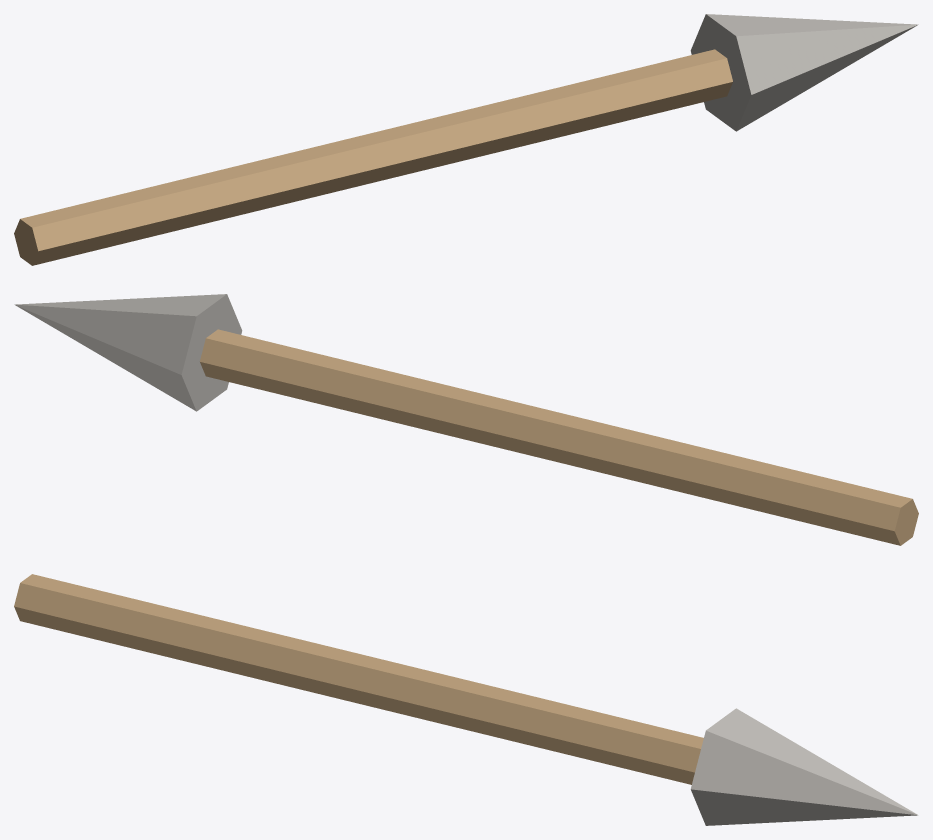
The model's file is item_015_spear_s.glb.
The picture shows the model from 3 angles, top to bottom: view 1: azimuth 30°, elevation 25°; view 2: azimuth 150°, elevation 25°; view 3: azimuth 330°, elevation 25°; orthographic projection.
Parts seen in each view (by area): view 1: item_015_spear_s; view 2: item_015_spear_s; view 3: item_015_spear_s.
Part boxes in pixels (x1,y1,x2,y2): item_015_spear_s: (14, 14, 918, 265); item_015_spear_s: (14, 294, 918, 545); item_015_spear_s: (14, 574, 918, 825).
Size of the model in its own units: 0.7632 by 0.0779 by 0.09.
